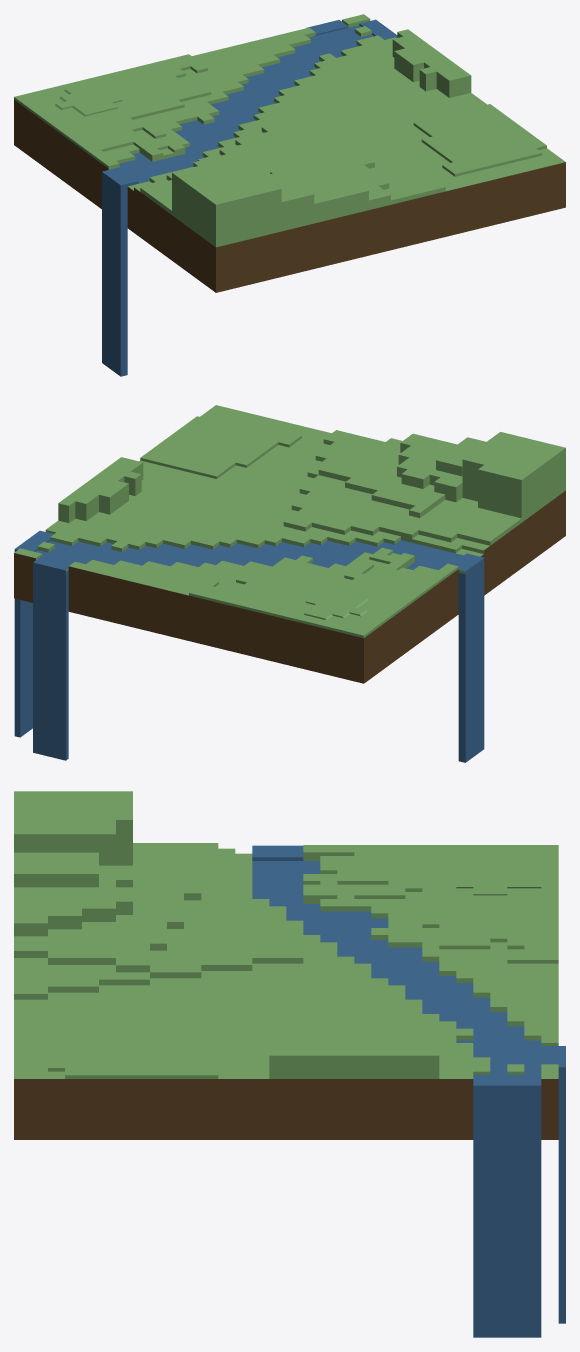
File: terrain.fbx
3 views of the same model, one above another, from view 1: azimuth 30°, elevation 25°; view 2: azimuth 150°, elevation 25°; view 3: azimuth 270°, elevation 25° (orthographic). The views are drawn at different scales.
Parts seen in each view (by area): view 1: pCube1; view 2: pCube1; view 3: pCube1.
Boxes of the visible parts, box(x1,y1,x2,y2) form: pCube1: box(14, 14, 565, 376); pCube1: box(14, 405, 565, 762); pCube1: box(14, 791, 565, 1337).
Bounding box in the file's own units: 76.24 × 47.24 × 74.61.
